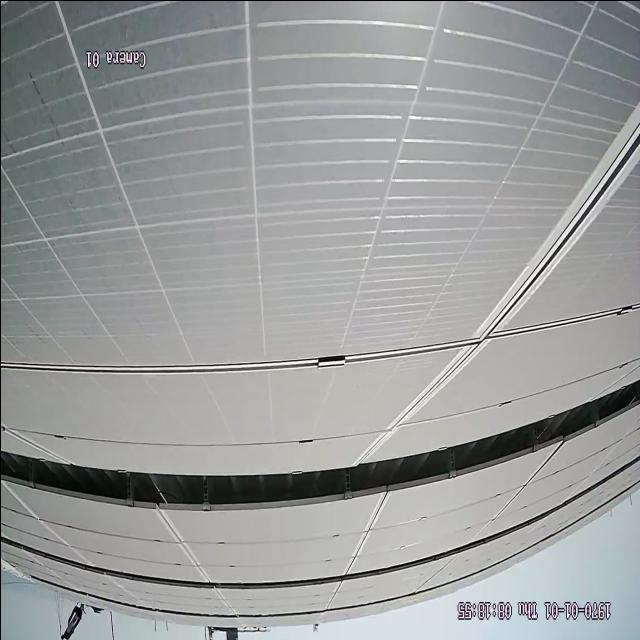interior panel: (3, 102, 640, 445), (336, 505, 385, 574), (157, 518, 210, 573)
outher panel: (0, 372, 640, 503)
